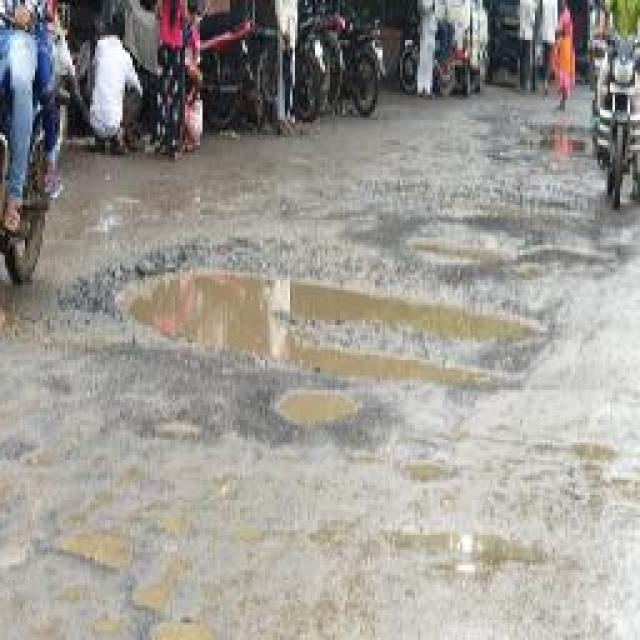stagnation: (91, 241, 562, 407), (247, 382, 370, 445)
